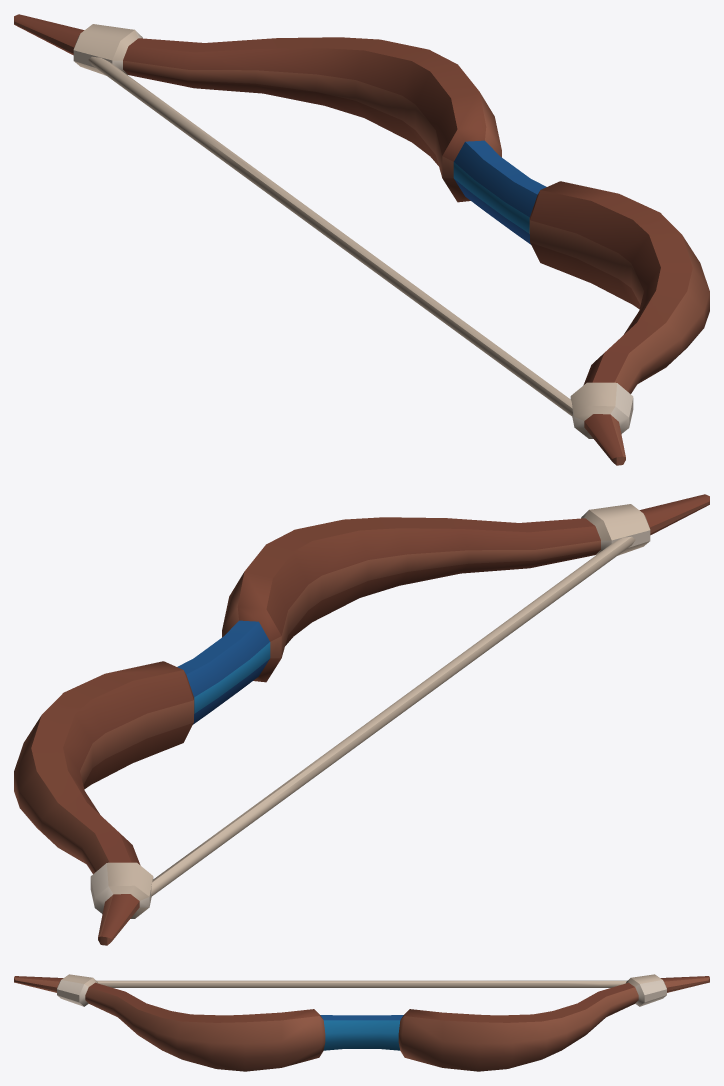
File: XA_bow_withString.glb
The picture shows the model from 3 angles, top to bottom: view 1: azimuth 30°, elevation 25°; view 2: azimuth 150°, elevation 25°; view 3: azimuth 270°, elevation 25°; orthographic projection. The views are drawn at different scales.
Visible parts, largest first — view 1: bow_withString; view 2: bow_withString; view 3: bow_withString.
Boxes of the visible parts, <box> form: bow_withString: <box>14,14,709,465</box>; bow_withString: <box>14,494,709,945</box>; bow_withString: <box>14,974,709,1071</box>.
Bounding box in the file's own units: 0.4944 × 0.1555 × 1.98.
